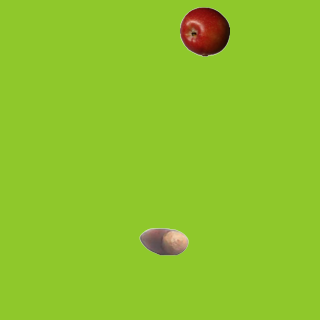Apple Braeburn: (179, 6, 229, 56)
Hazelnut: (138, 216, 188, 266)
